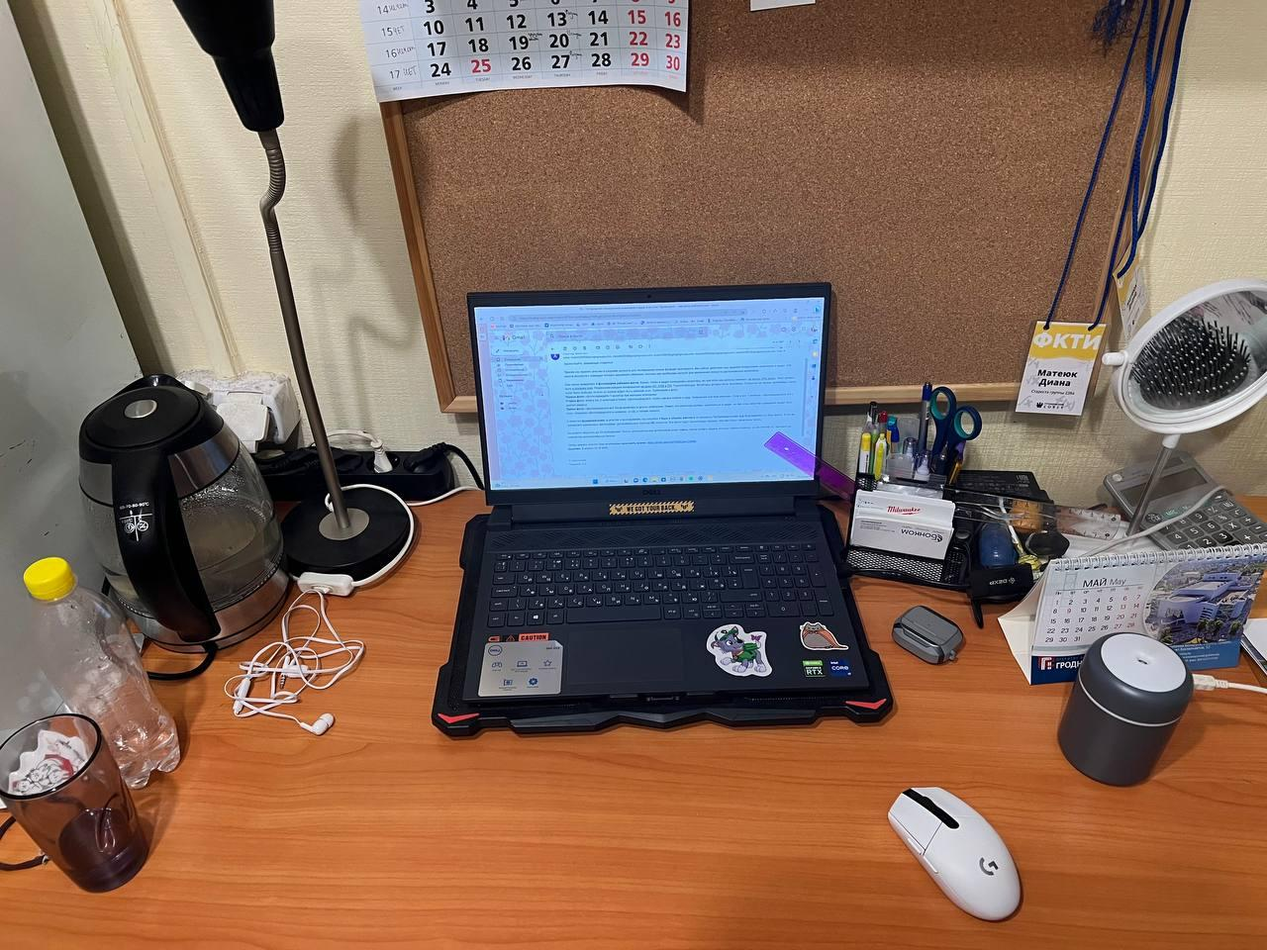monitor: (464, 280, 836, 510)
